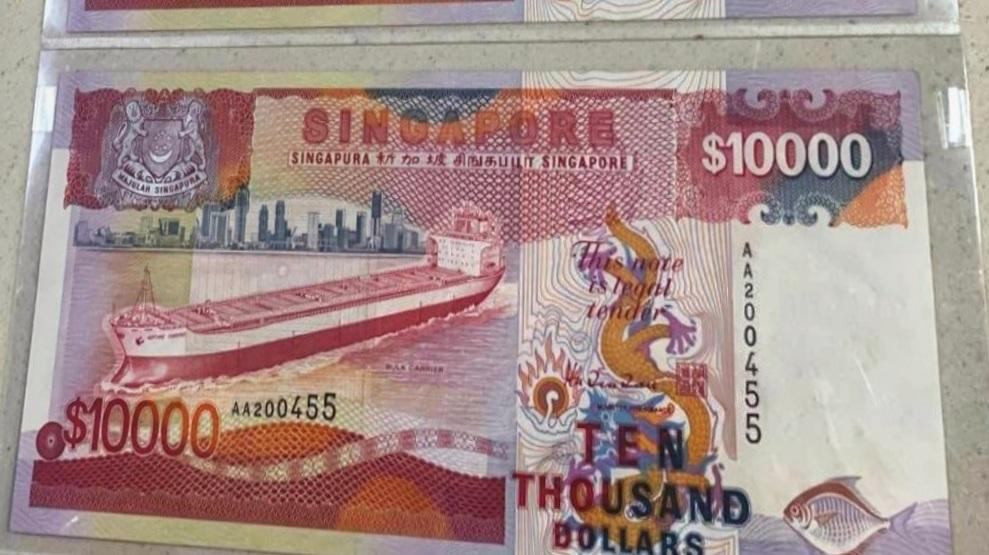10000SingaporeDollar: (40, 74, 922, 555)
